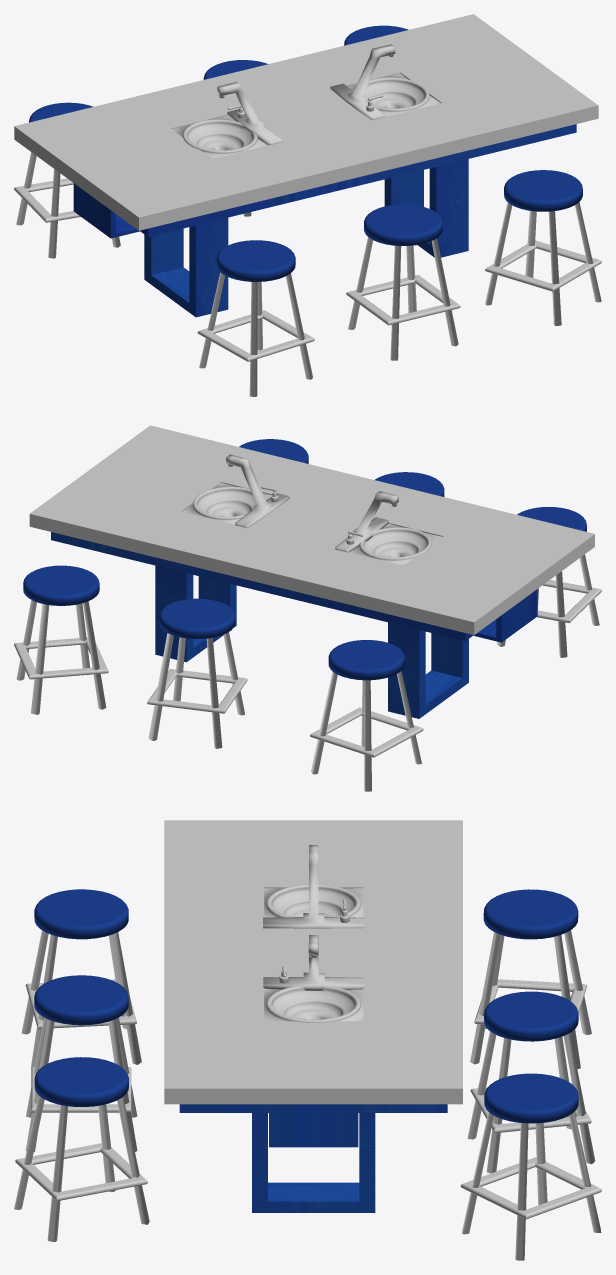
File: mesa1.obj
3 views of the same model, one above another, from view 1: azimuth 30°, elevation 25°; view 2: azimuth 150°, elevation 25°; view 3: azimuth 270°, elevation 25° (orthographic). The views are drawn at different scales.
Parts seen in each view (by area): view 1: Cube; view 2: Cube; view 3: Cube.
Part boxes in pixels (box(x1,y1,x2,y2)): Cube: box(14, 14, 601, 396); Cube: box(14, 425, 601, 791); Cube: box(14, 820, 601, 1260).
Size of the model in its own units: 13.43 by 5.55 by 12.44.
